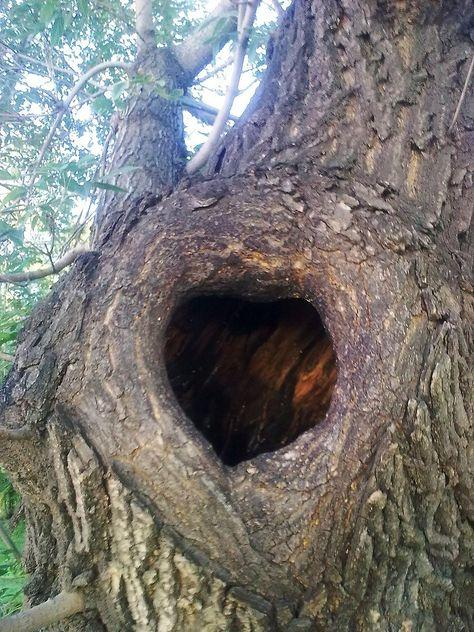hollow: (165, 296, 335, 464)
